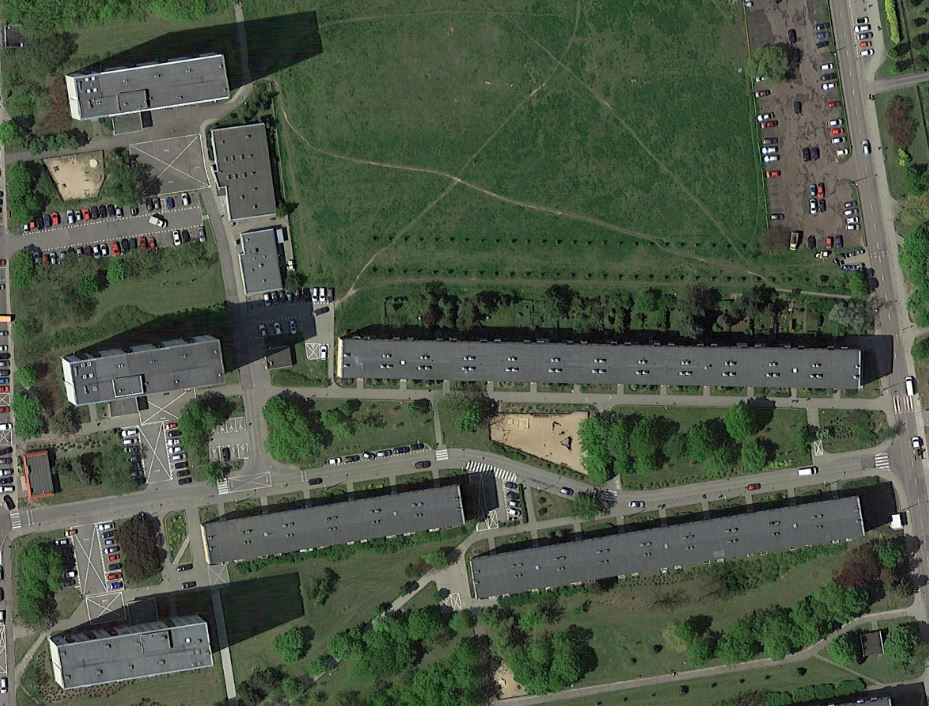block of flats: (464, 487, 875, 609), (329, 328, 872, 402), (198, 477, 473, 573), (44, 603, 221, 702), (59, 327, 237, 413), (57, 49, 237, 132), (205, 116, 288, 226), (233, 219, 292, 298)
